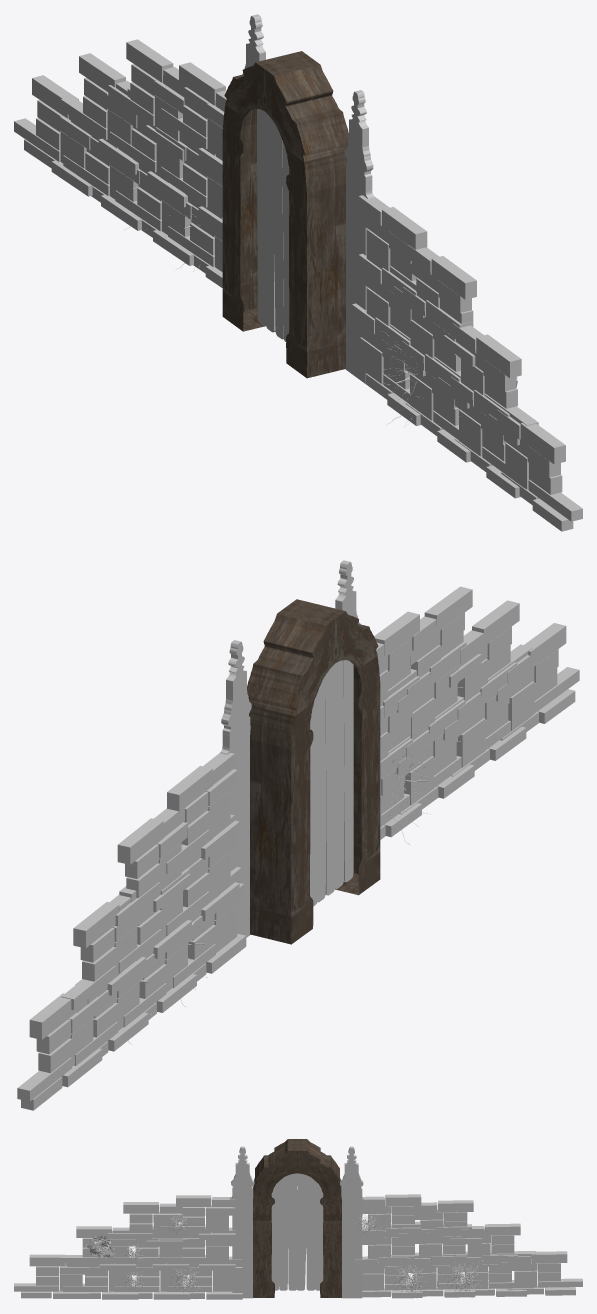
File: BossGate.fbx
3 renders of one model, top to bottom at view 1: azimuth 30°, elevation 25°; view 2: azimuth 150°, elevation 25°; view 3: azimuth 270°, elevation 25°, orthographic. The views are drawn at different scales.
Parts seen in each view (by area): view 1: Cube.306, Plane.367, Cube.325, Plane.381, Plane.386, Plane.382, Plane.364, Plane.372, Plane.358, Plane.385, Plane.373, Plane.357 (+13 smaller); view 2: Cube.306, Plane.381, Plane.385, Plane.382, Plane.386, Cube.307, Plane.367, Plane.364, Plane.360, Plane.357, Plane.373, Plane.375 (+14 smaller); view 3: Cube.306, Cube.307, Cube.325, Plane.381, Plane.372, Plane.367, Plane.373, Plane.375, Plane.385, Plane.377, Plane.378, Plane.358 (+19 smaller).
Boxes of the visible parts, left/top/right/bottom form: Cube.306: left=222, top=51, right=348, bottom=378; Plane.367: left=497, top=410, right=582, bottom=531; Cube.325: left=344, top=90, right=374, bottom=383; Plane.381: left=14, top=75, right=93, bottom=196; Plane.386: left=108, top=39, right=186, bottom=160; Plane.382: left=61, top=53, right=139, bottom=174; Plane.364: left=453, top=323, right=538, bottom=445; Plane.372: left=358, top=195, right=427, bottom=317; Plane.358: left=352, top=303, right=420, bottom=425; Plane.385: left=161, top=62, right=226, bottom=174; Plane.373: left=408, top=245, right=476, bottom=366; Plane.357: left=401, top=341, right=470, bottom=462; Cube.306: left=247, top=599, right=380, bottom=944; Plane.381: left=17, top=993, right=102, bottom=1110; Plane.385: left=166, top=752, right=239, bottom=873; Plane.382: left=61, top=895, right=146, bottom=1012; Plane.386: left=114, top=808, right=190, bottom=926; Cube.307: left=220, top=640, right=251, bottom=937; Plane.367: left=500, top=623, right=579, bottom=740; Plane.364: left=457, top=600, right=532, bottom=701; Plane.360: left=451, top=662, right=530, bottom=776; Plane.357: left=399, top=700, right=474, bottom=814; Plane.373: left=410, top=586, right=481, bottom=687; Plane.375: left=173, top=867, right=246, bottom=988; Cube.306: left=253, top=1139, right=341, bottom=1297; Cube.307: left=340, top=1146, right=364, bottom=1298; Cube.325: left=230, top=1146, right=254, bottom=1298; Plane.381: left=507, top=1251, right=582, bottom=1295; Plane.372: left=160, top=1195, right=235, bottom=1239; Plane.367: left=14, top=1254, right=89, bottom=1298; Plane.373: left=108, top=1202, right=183, bottom=1246; Plane.375: left=354, top=1254, right=422, bottom=1298; Plane.385: left=362, top=1194, right=429, bottom=1238; Plane.377: left=406, top=1253, right=475, bottom=1297; Plane.378: left=458, top=1253, right=533, bottom=1296; Plane.358: left=167, top=1255, right=242, bottom=1299.
Bounding box in the file's own units: 103 × 463 × 1524.
